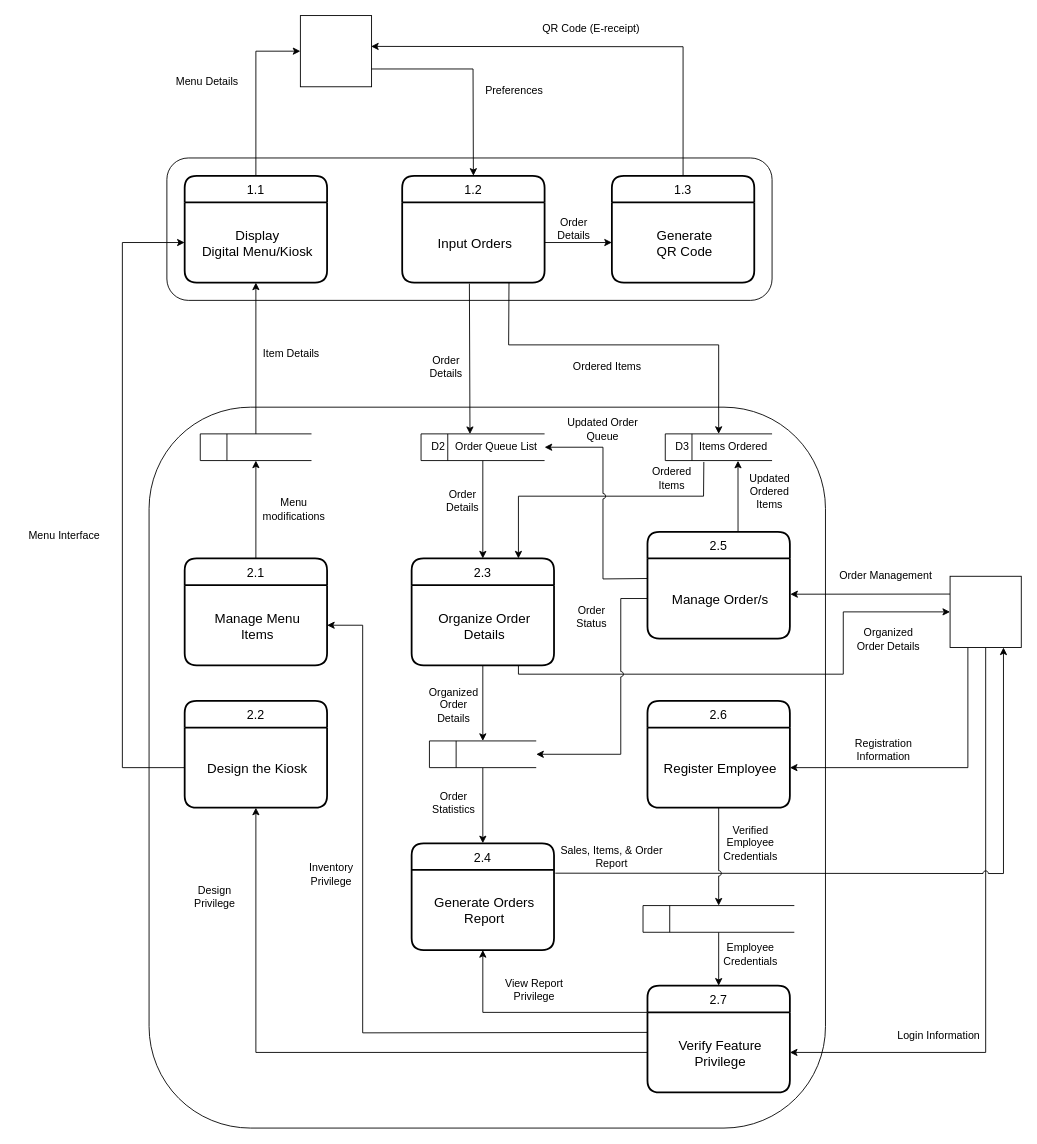
Some shapes in this 1037 by 1144 pixel diagram are drawn without their labels. Each missing label, with the centre of its shape:
Customer: the point at 335,51
D1 Menu Items: the point at 255,447
D4 Order Statistics: the point at 482,754
D5 Registered Employees: the point at 718,918
Establishment Employee: the point at 985,611
